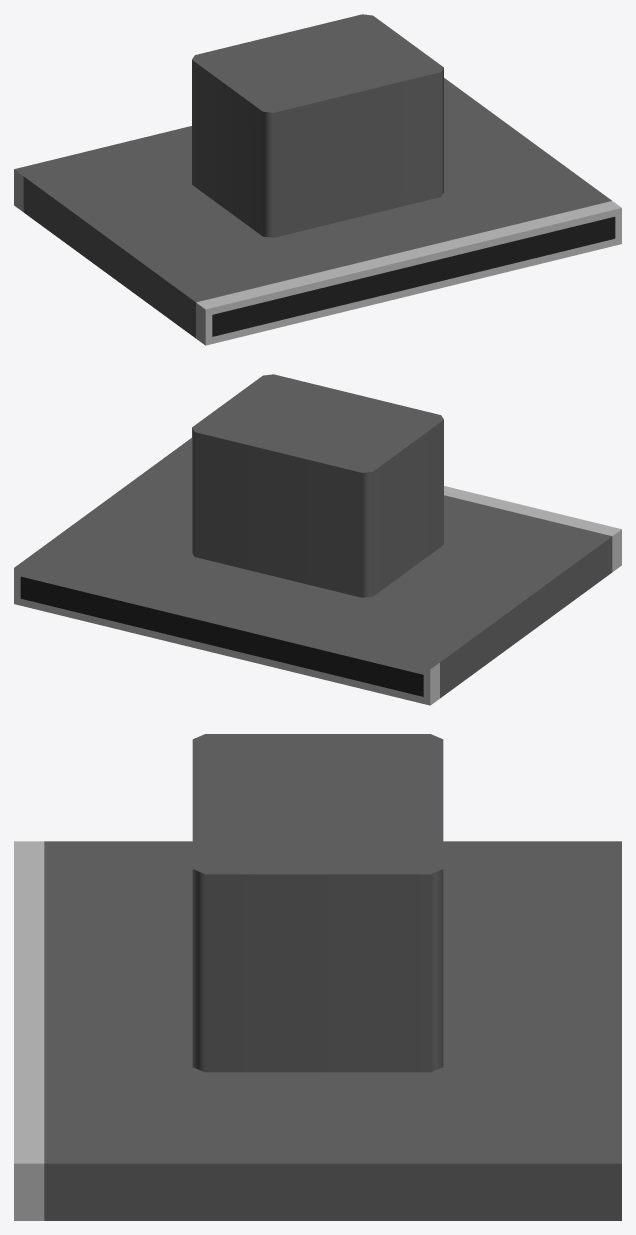
File: kitchen_041.fbx
The picture shows the model from 3 angles, top to bottom: view 1: azimuth 30°, elevation 25°; view 2: azimuth 150°, elevation 25°; view 3: azimuth 270°, elevation 25°; orthographic projection. The views are drawn at different scales.
Visible parts, largest first — view 1: kitchen_041; view 2: kitchen_041; view 3: kitchen_041.
Boxes of the visible parts, x1,y1,x2,y2 form: kitchen_041: (14,14,621,345); kitchen_041: (14,374,621,705); kitchen_041: (14,734,621,1220).
Bounding box in the file's own units: 105 × 84.04 × 38.99.
